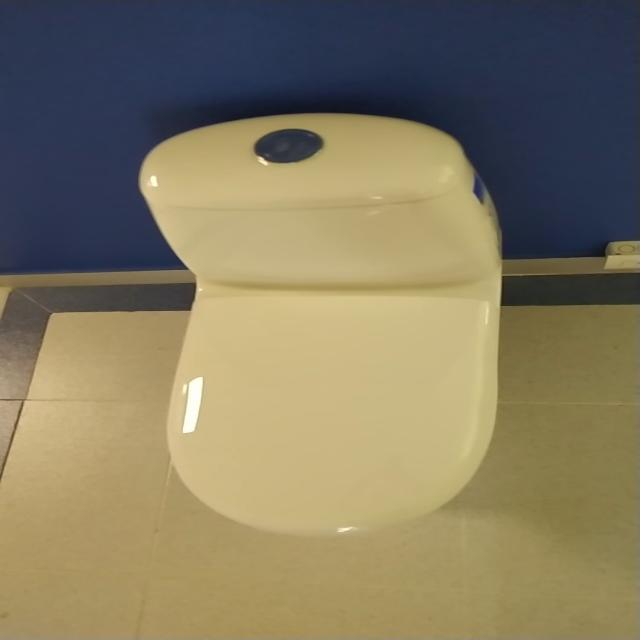toilet: (134, 103, 516, 545)
